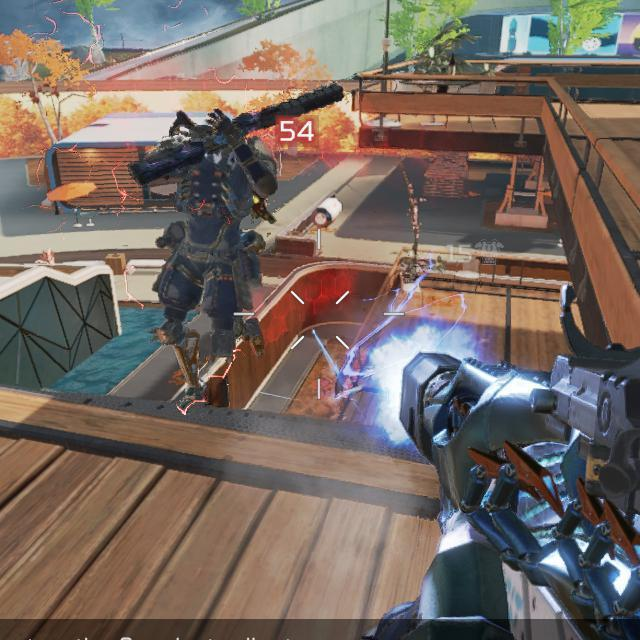avatar: (133, 109, 280, 408)
